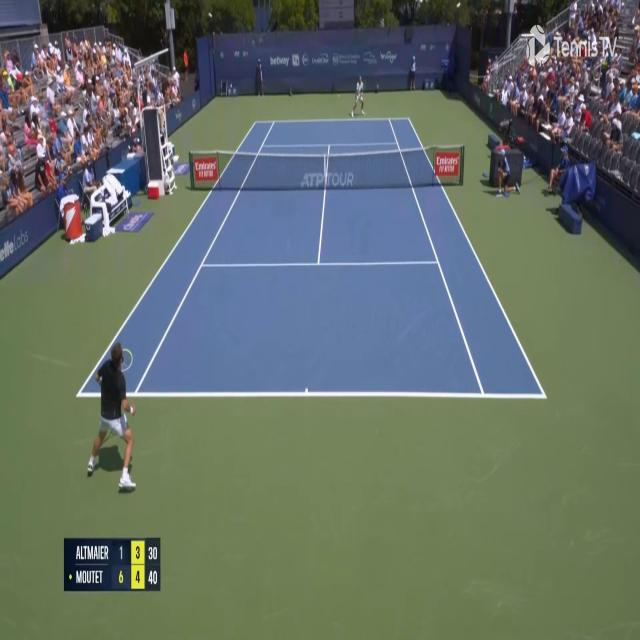tennis-player: (83, 334, 142, 494), (349, 74, 366, 120)
